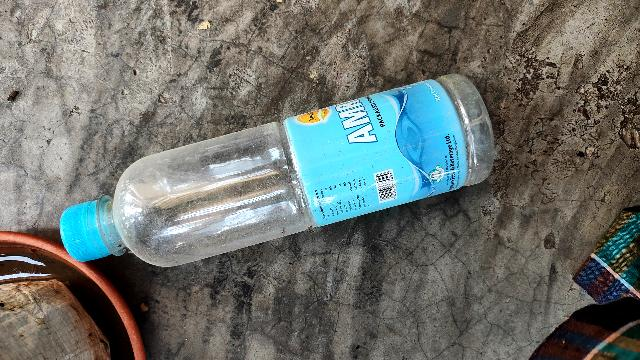bottle: (52, 73, 507, 298)
